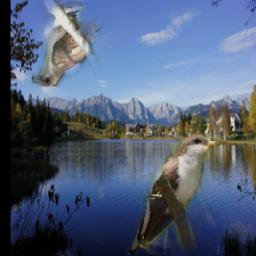Cuckoo: (128, 134, 221, 256), (33, 0, 133, 86)
